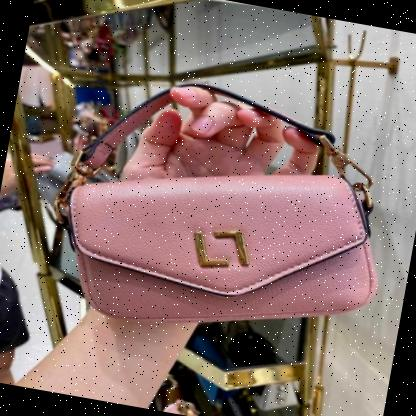bag: (33, 54, 411, 368)
